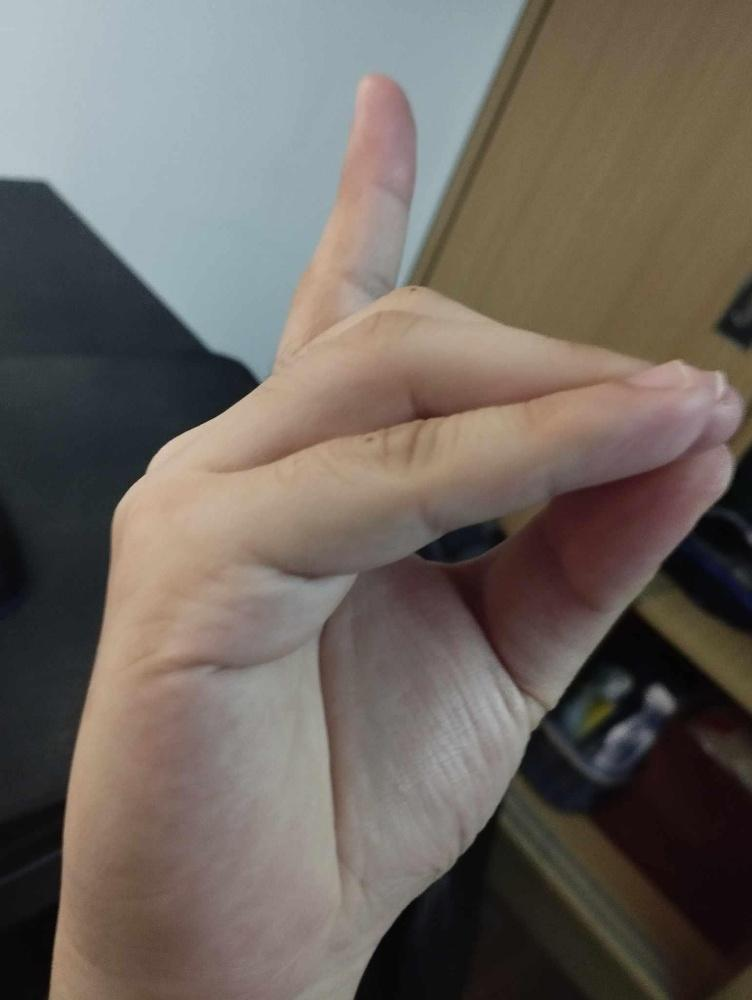d: (58, 64, 746, 987)
